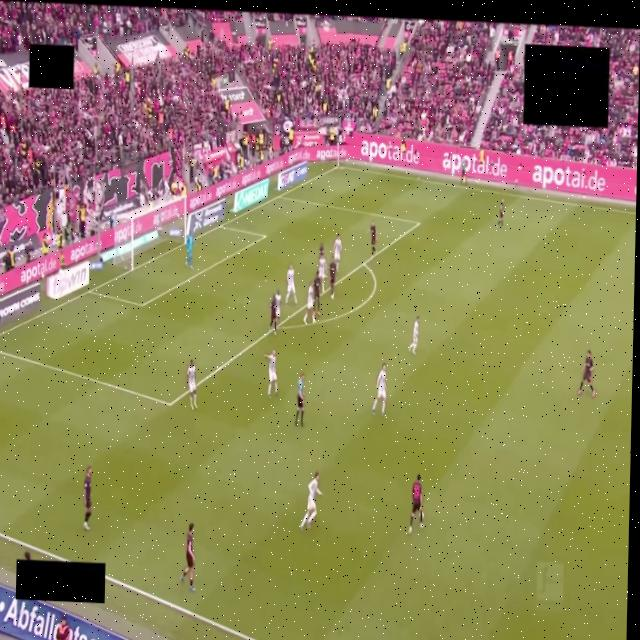player: (301, 472, 321, 530), (181, 523, 195, 591), (409, 475, 423, 533), (578, 350, 595, 397), (372, 363, 386, 416), (83, 466, 93, 531), (265, 350, 278, 397), (187, 360, 196, 410), (286, 265, 297, 305), (304, 284, 315, 324), (328, 259, 337, 299), (313, 272, 321, 316), (409, 316, 418, 354), (269, 292, 277, 334), (317, 256, 326, 293), (185, 233, 194, 269), (333, 234, 341, 270), (496, 199, 504, 227), (370, 222, 376, 256), (275, 290, 281, 323), (319, 244, 324, 258)
referee: (295, 374, 305, 427)
